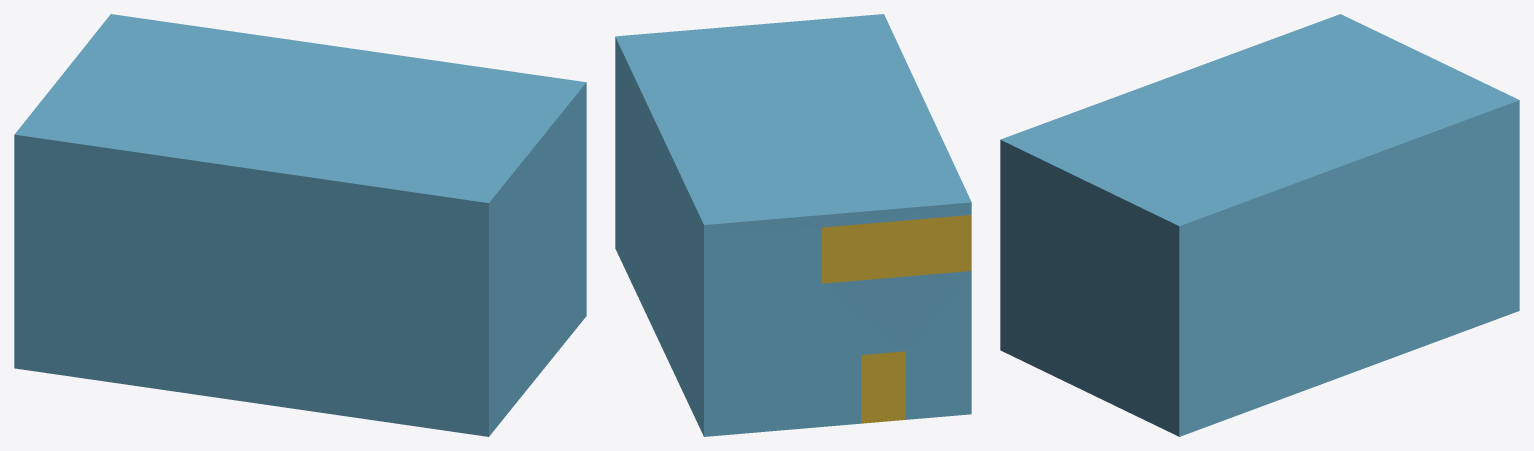
File: bldg_d32d3e70-e1c0-45ee-9613-8125a2b6f655.obj
3 views of the same model, side by side, from view 1: azimuth 30°, elevation 25°; view 2: azimuth 150°, elevation 25°; view 3: azimuth 270°, elevation 25° (orthographic). The views are drawn at different scales.
Bounding box in the file's own units: 12.27 × 5.68 × 12.69.
